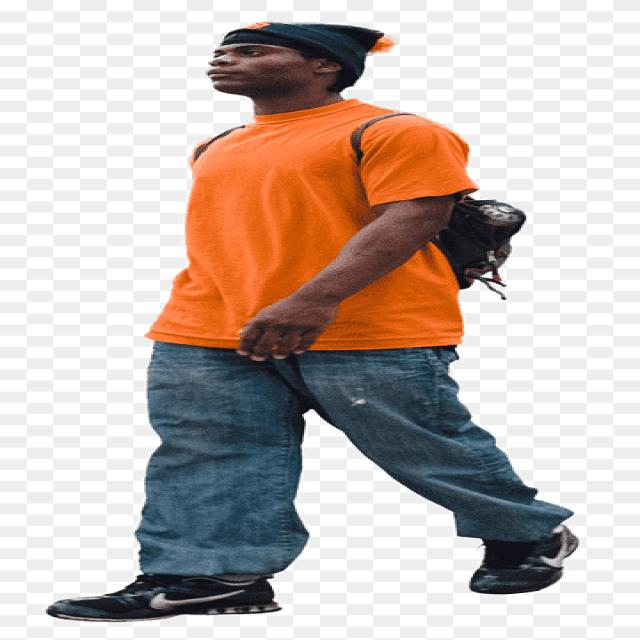adult: (38, 17, 598, 626)
